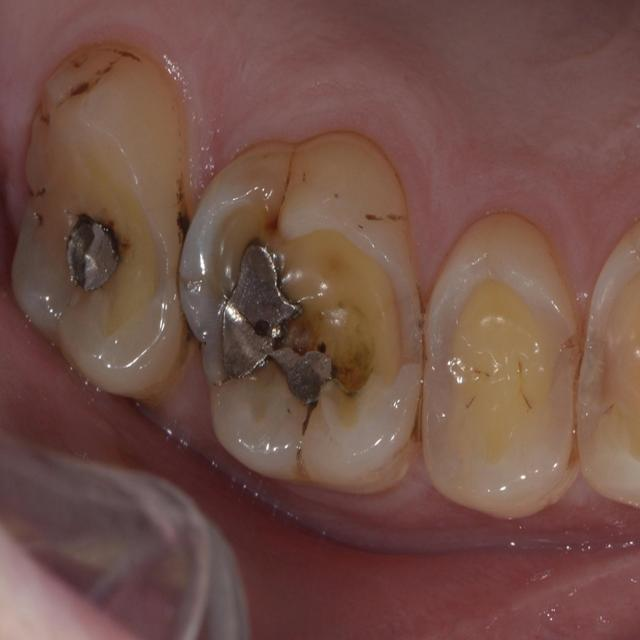caries: (182, 134, 421, 488), (14, 41, 192, 396)
